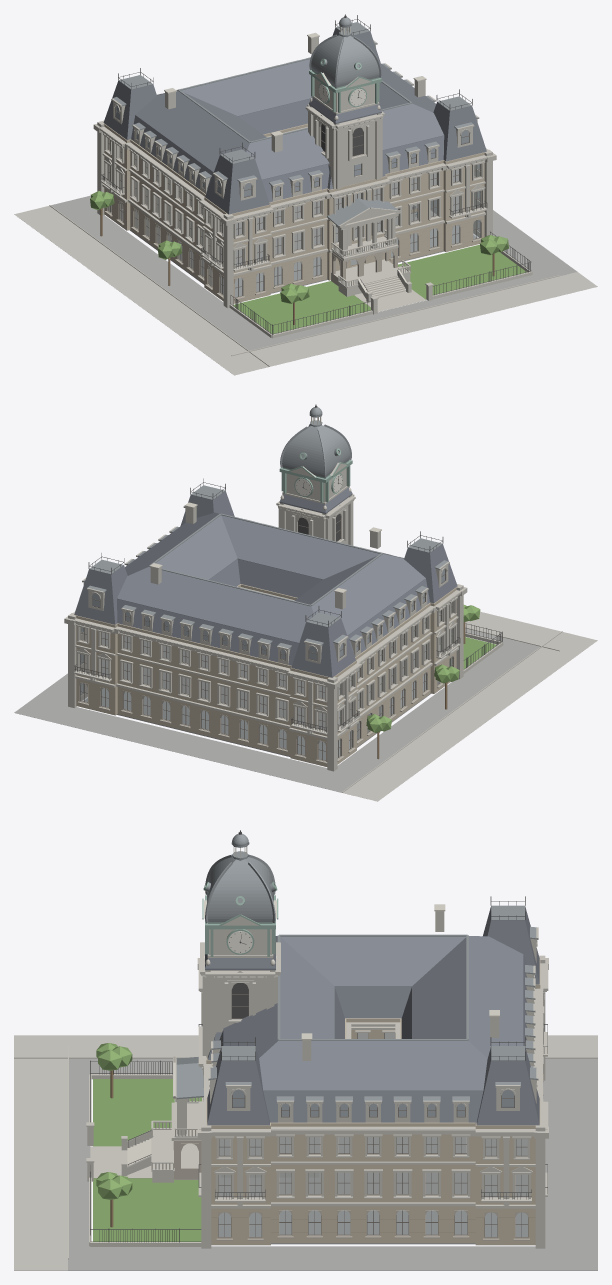
Rendered from clay-second-empire-city-hall-clay-v003.glb.
The picture shows the model from 3 angles, top to bottom: view 1: azimuth 30°, elevation 25°; view 2: azimuth 150°, elevation 25°; view 3: azimuth 270°, elevation 25°; orthographic projection. The views are drawn at different scales.
Parts seen in each view (by area): view 1: CLAY_STONE, CLAY_ROOF, CLAY_WALL, CLAY_CONCRETE, CLAY_FOUNDATION, CLAY_PLANTING, CLAY_ZINC, CLAY_GLASS, CLAY_TRIM, CLAY_HARDWARE, CLAY_RUSTIC, CLAY_FLOOR (+2 smaller); view 2: CLAY_ROOF, CLAY_STONE, CLAY_WALL, CLAY_FOUNDATION, CLAY_CONCRETE, CLAY_GLASS, CLAY_ZINC, CLAY_TRIM, CLAY_FLOOR, CLAY_RUSTIC, CLAY_HARDWARE, CLAY_PLANTING (+1 smaller); view 3: CLAY_ROOF, CLAY_STONE, CLAY_FOUNDATION, CLAY_WALL, CLAY_CONCRETE, CLAY_PLANTING, CLAY_ZINC, CLAY_GLASS, CLAY_FLOOR, CLAY_TRIM, CLAY_HARDWARE, CLAY_RUSTIC (+2 smaller).
Boxes of the visible parts, x1,y1,x2,y2 form: CLAY_STONE: (49,37,559,366); CLAY_ROOF: (103,28,486,214); CLAY_WALL: (104,123,484,303); CLAY_CONCRETE: (14,206,597,375); CLAY_FOUNDATION: (51,195,577,350); CLAY_PLANTING: (90,191,526,333); CLAY_ZINC: (112,17,478,226); CLAY_GLASS: (108,105,480,297); CLAY_TRIM: (107,107,481,297); CLAY_HARDWARE: (101,14,531,334); CLAY_RUSTIC: (104,191,481,300); CLAY_FLOOR: (120,150,475,265); CLAY_ROOF: (74,487,457,677); CLAY_STONE: (64,462,562,792); CLAY_WALL: (74,584,456,766); CLAY_FOUNDATION: (14,628,539,792); CLAY_CONCRETE: (343,612,597,801); CLAY_GLASS: (80,568,452,760); CLAY_ZINC: (82,407,448,649); CLAY_TRIM: (80,516,453,760); CLAY_FLOOR: (85,613,440,729); CLAY_RUSTIC: (77,655,454,763); CLAY_HARDWARE: (74,404,502,732); CLAY_PLANTING: (366,605,496,732); CLAY_ROOF: (205,907,539,1125); CLAY_STONE: (14,900,597,1259); CLAY_FOUNDATION: (68,1058,597,1270); CLAY_WALL: (206,958,540,1245); CLAY_CONCRETE: (14,1035,597,1270); CLAY_PLANTING: (93,1043,201,1241); CLAY_ZINC: (176,833,537,1102); CLAY_GLASS: (218,1033,527,1236); CLAY_FLOOR: (218,1033,527,1196); CLAY_TRIM: (218,989,528,1237); CLAY_HARDWARE: (90,830,547,1242); CLAY_RUSTIC: (173,1074,543,1240).
Size of the model in its own units: 62 by 40.8 by 65.
